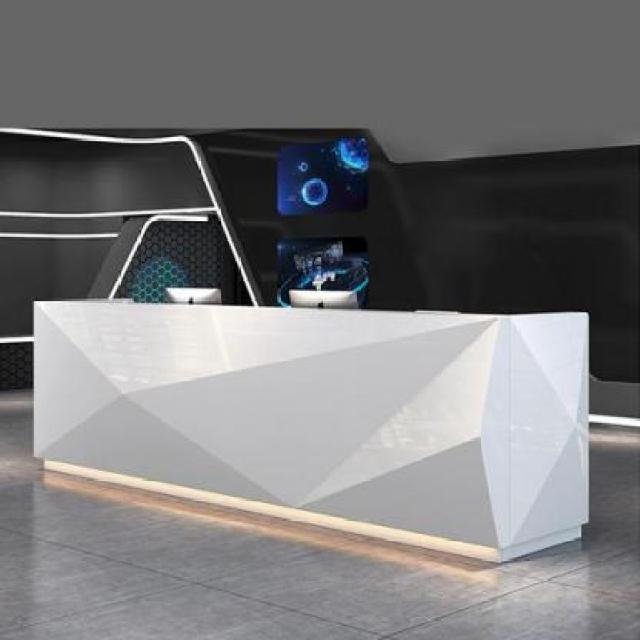frontdesk: (17, 300, 606, 566)
